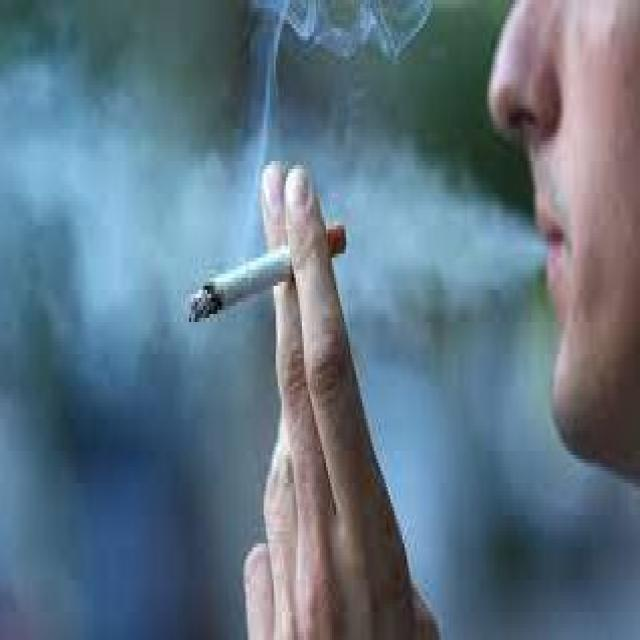cigarette: (183, 213, 348, 326)
